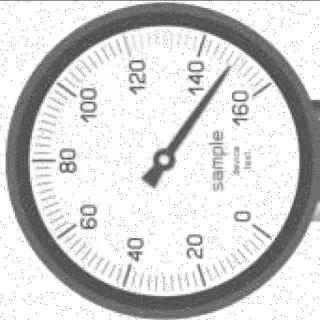gauge: (1, 3, 320, 320), (239, 72, 280, 110), (236, 206, 274, 245), (151, 147, 178, 171), (217, 63, 234, 77)
